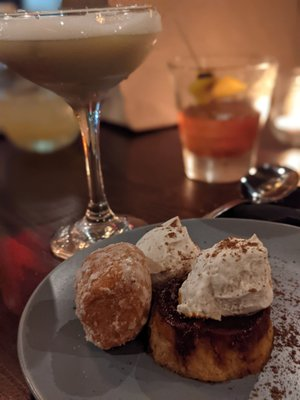pizza: (172, 56, 297, 198), (174, 55, 267, 185)
soup: (144, 232, 274, 383)
